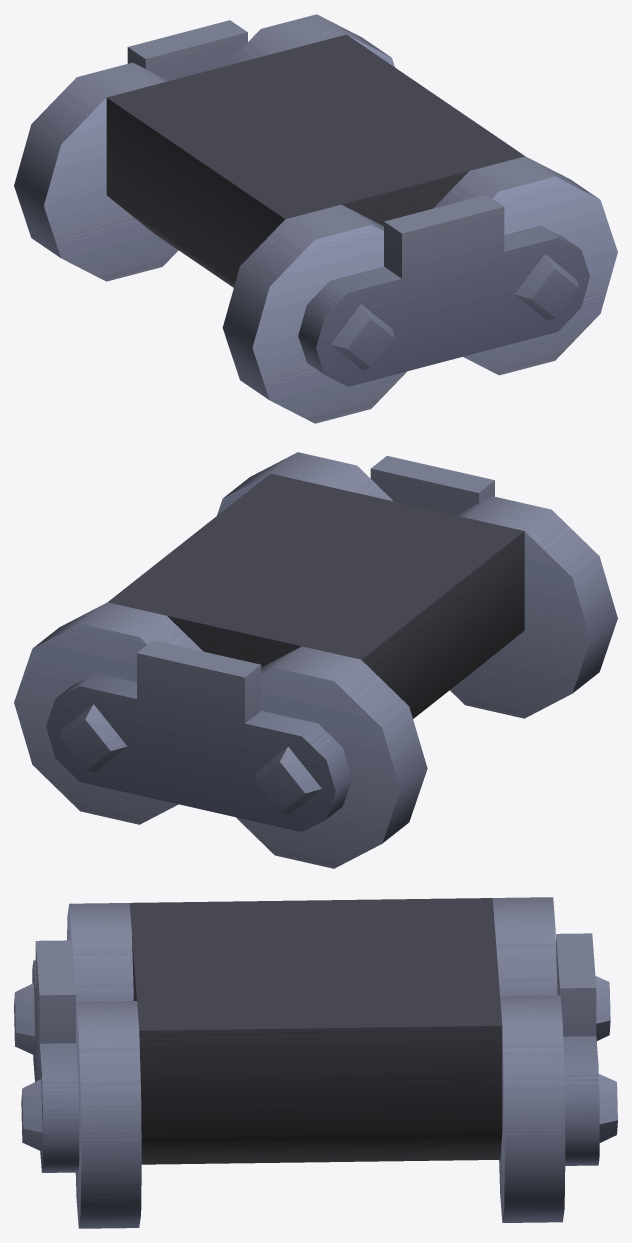
The model's file is wheels-front_lev2.glb.
The picture shows the model from 3 angles, top to bottom: view 1: azimuth 30°, elevation 25°; view 2: azimuth 150°, elevation 25°; view 3: azimuth 270°, elevation 25°; orthographic projection. The views are drawn at different scales.
Parts seen in each view (by area): view 1: wheels-front_lev2; view 2: wheels-front_lev2; view 3: wheels-front_lev2.
Boxes of the visible parts, bbox=[...] form: wheels-front_lev2: bbox=[14, 14, 617, 423]; wheels-front_lev2: bbox=[14, 452, 617, 868]; wheels-front_lev2: bbox=[14, 897, 617, 1228].
Bounding box in the file's own units: 0.9196 × 0.4205 × 1.17.
1 material, 1 textured.
